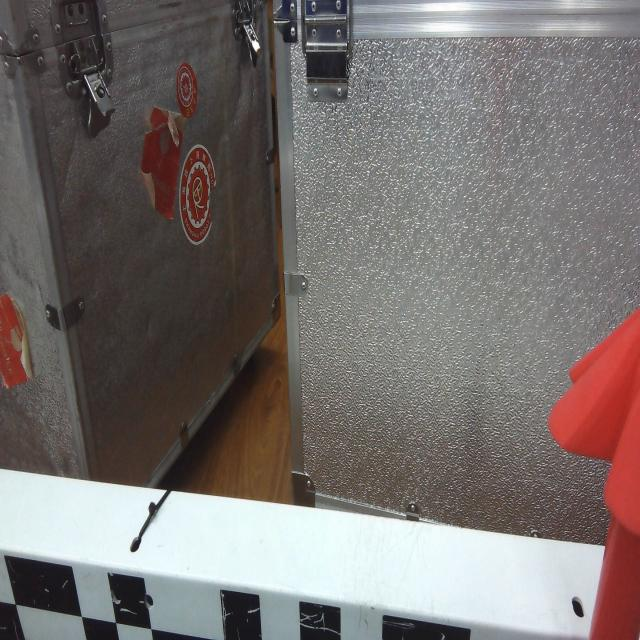zred-Stake-Head: (547, 305, 640, 539)
